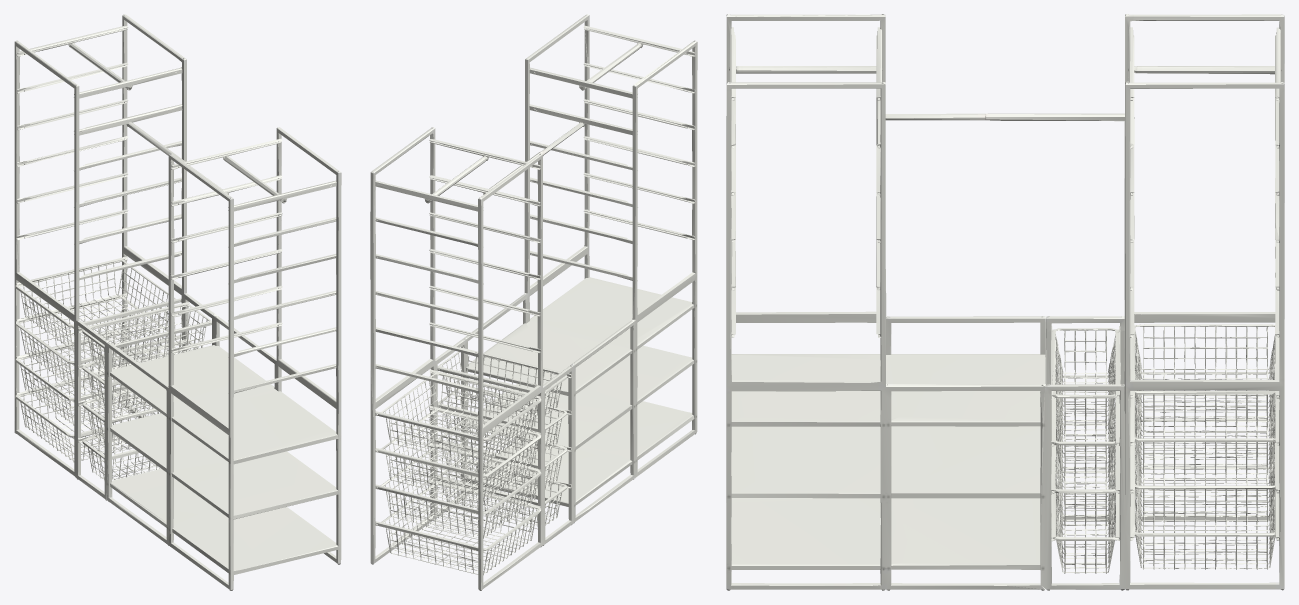
File: jonaxel_kombinacja_szafy_89297663.glb
3 views of the same model, side by side, from view 1: azimuth 30°, elevation 25°; view 2: azimuth 150°, elevation 25°; view 3: azimuth 270°, elevation 25° (orthographic). The views are drawn at different scales.
Parts seen in each view (by area): view 1: jonaxel_kombinacja_szafy_89297663; view 2: jonaxel_kombinacja_szafy_89297663; view 3: jonaxel_kombinacja_szafy_89297663.
Part boxes in pixels (box(x1,y1,x2,y2)): jonaxel_kombinacja_szafy_89297663: box(14, 14, 341, 590); jonaxel_kombinacja_szafy_89297663: box(370, 14, 697, 590); jonaxel_kombinacja_szafy_89297663: box(726, 14, 1284, 590).
Size of the model in its own units: 0.5304 by 1.74 by 1.73.
Materials: 1 (1 with a texture image).
